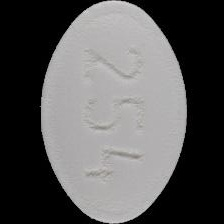69189-0427: (0, 0, 224, 224)
